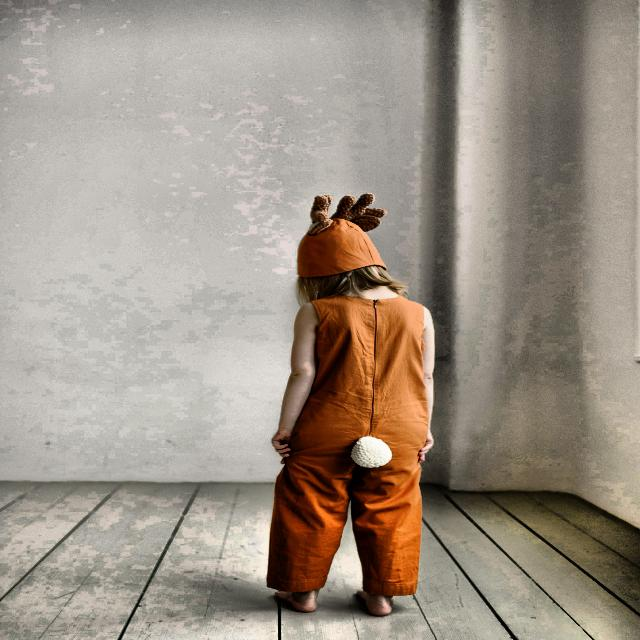Human: (233, 158, 470, 620)
